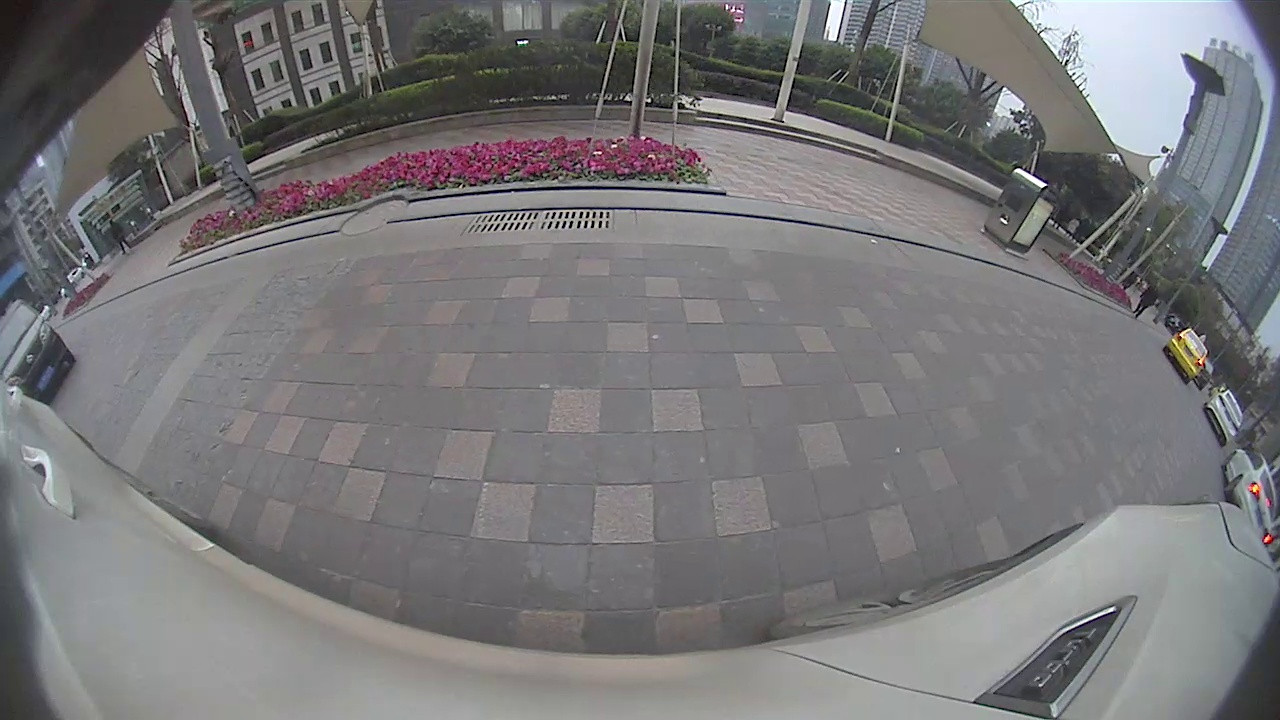car: (1, 296, 78, 406), (1163, 325, 1210, 384), (1202, 388, 1246, 446)
